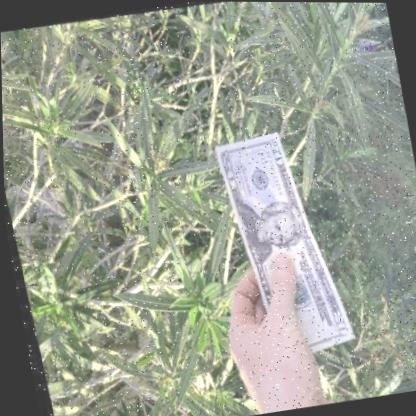dollar_front: (212, 129, 351, 359)
